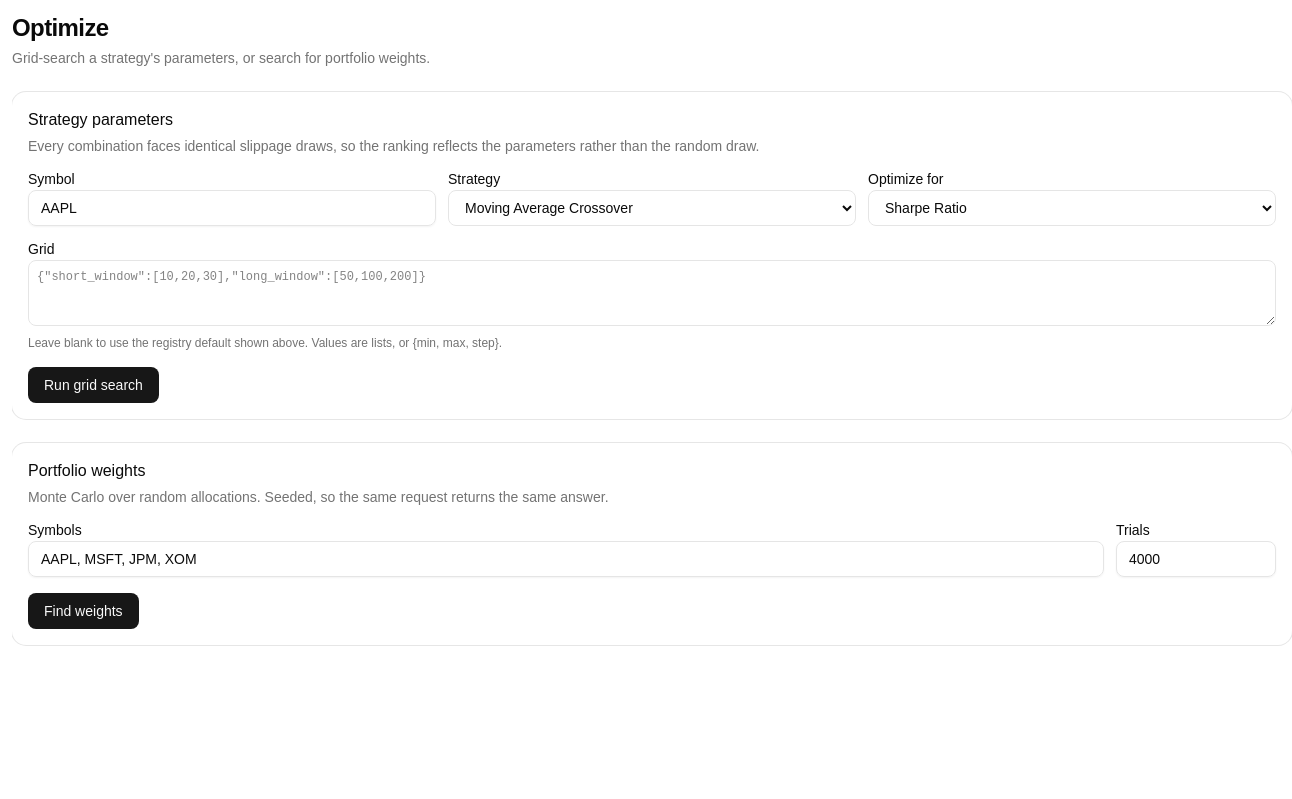
Test case: OptimizePage — grid search › says when the window is too short to check out of sample
Click the button "Run grid search". click: (93, 385)
box: [28, 367, 159, 403]
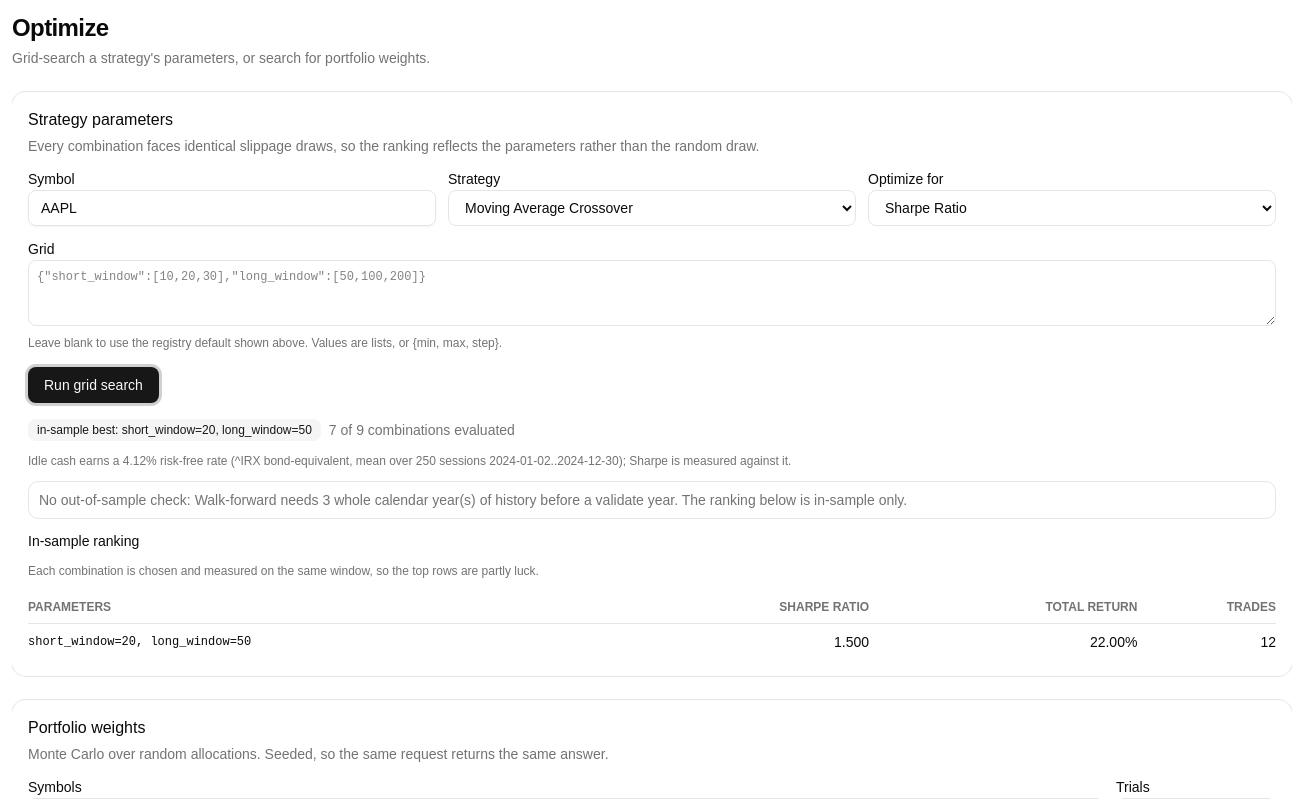
Result: the text "No out-of-sample check: Walk-forward needs 3" is shown at [39, 492, 907, 508]
